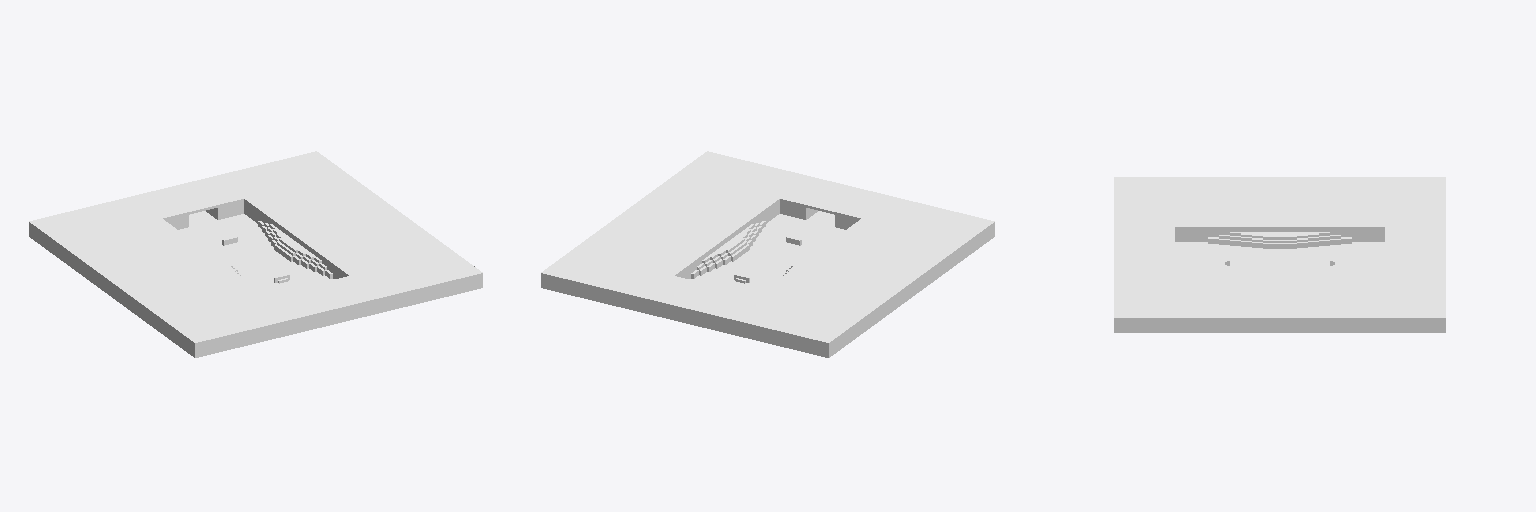
Rendered from arenaLong.obj.
3 views of the same model, side by side, from view 1: azimuth 30°, elevation 25°; view 2: azimuth 150°, elevation 25°; view 3: azimuth 270°, elevation 25° (orthographic).
Parts seen in each view (by area): view 1: object 1; view 2: object 1; view 3: object 1.
Boxes of the visible parts, box(x1,y1,x2,y2) form: object 1: box(29, 151, 482, 357); object 1: box(541, 151, 994, 357); object 1: box(1114, 177, 1445, 332).
Size of the model in its own units: 12 by 0.7 by 12.